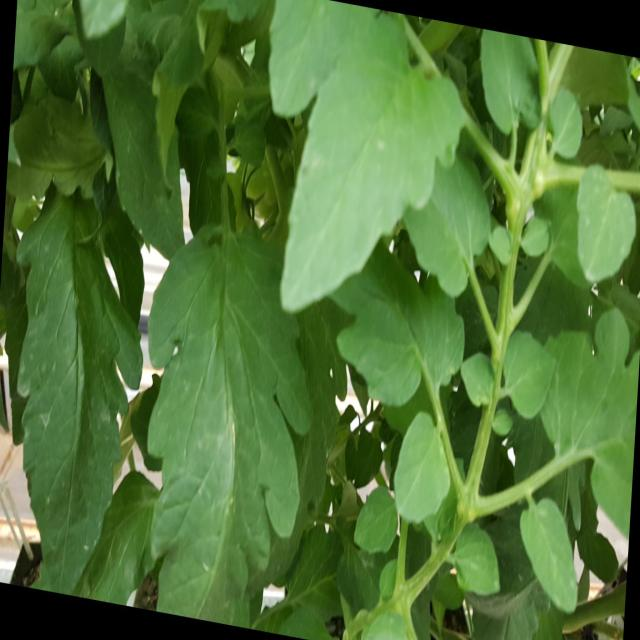Healthy Leaf: (142, 216, 316, 640), (21, 155, 145, 607), (514, 476, 592, 626), (387, 416, 458, 538), (571, 166, 639, 288), (496, 330, 558, 427), (452, 513, 510, 600), (342, 487, 404, 563)
